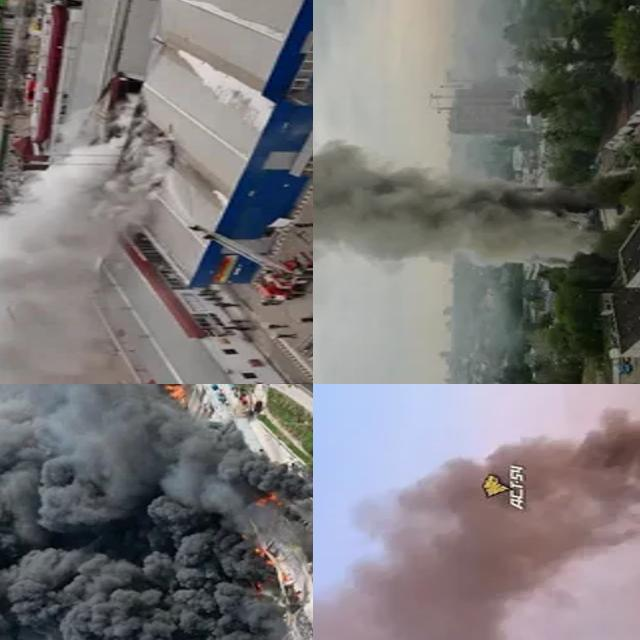smoke: (313, 389, 640, 640), (0, 384, 311, 640), (313, 113, 601, 297), (0, 93, 168, 384)
